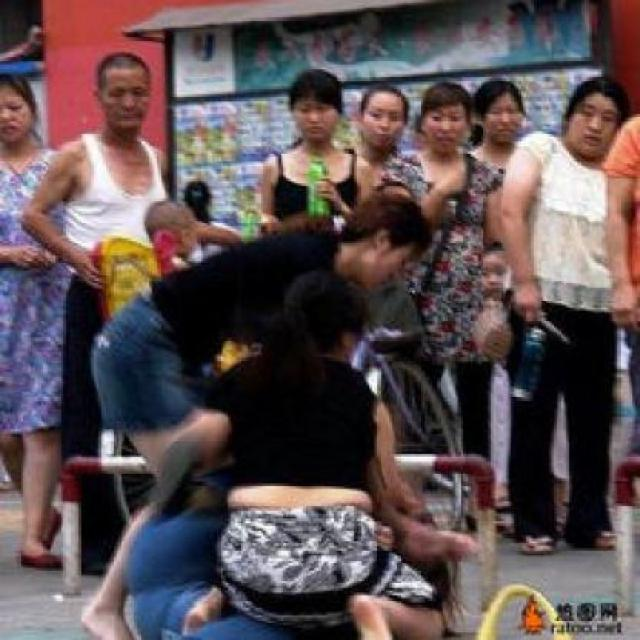fall: (89, 476, 473, 635)
